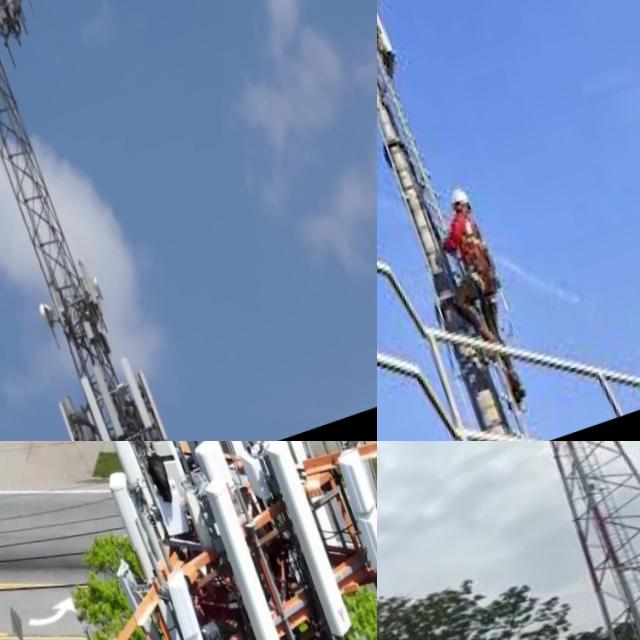GSM Antenna: (256, 441, 357, 640), (193, 471, 293, 640), (99, 459, 162, 592), (325, 441, 377, 588), (105, 552, 171, 640), (148, 564, 224, 640), (98, 441, 155, 519), (81, 360, 121, 441), (109, 354, 147, 438), (69, 370, 110, 441), (128, 368, 163, 441), (377, 0, 401, 97), (247, 441, 308, 474), (69, 255, 97, 311), (49, 400, 82, 441)
Microwave Antenna: (26, 293, 58, 343), (84, 274, 101, 307)
